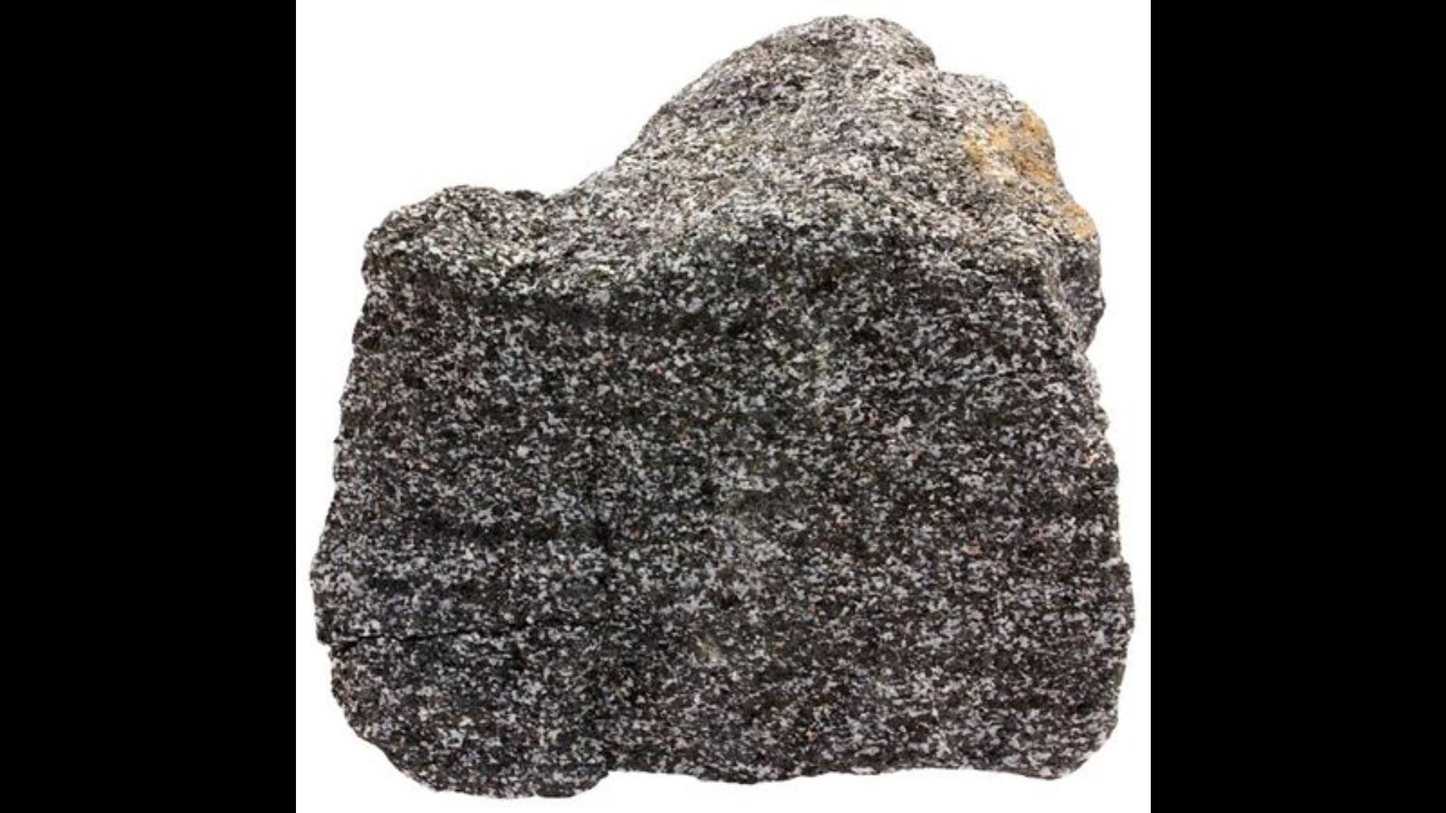rock: (311, 20, 1128, 795)
